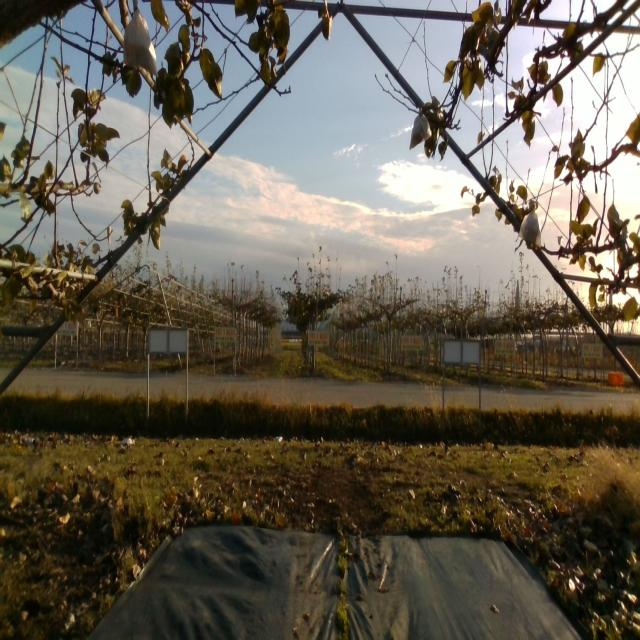pearbags: (122, 0, 160, 77), (517, 204, 543, 247), (408, 107, 432, 151)
